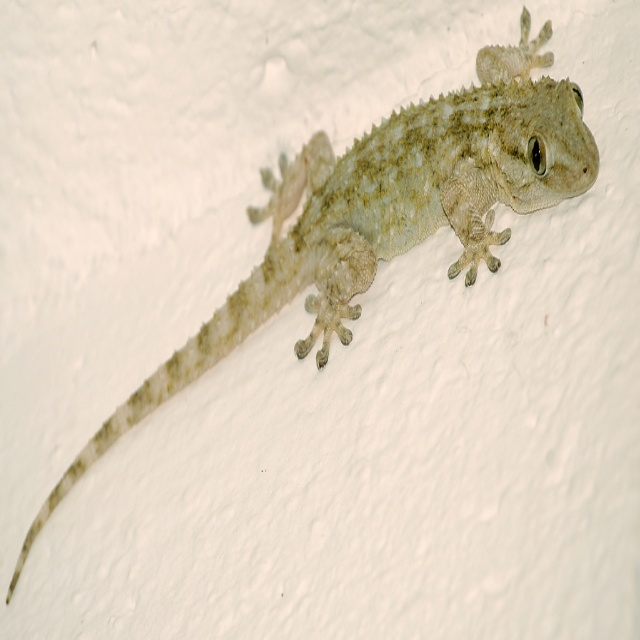Lizard: (5, 8, 599, 602)
